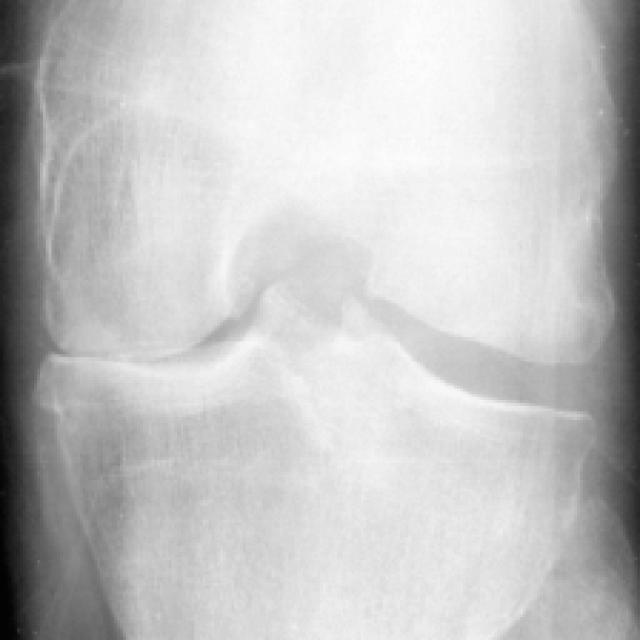femur: (29, 0, 621, 363)
tibia: (53, 285, 590, 640)
